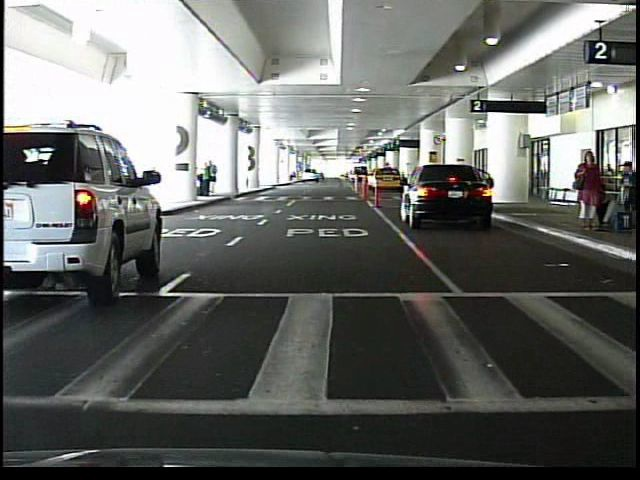person: (571, 152, 605, 229), (615, 161, 637, 228), (584, 155, 596, 205), (199, 161, 212, 199), (209, 160, 219, 196)
